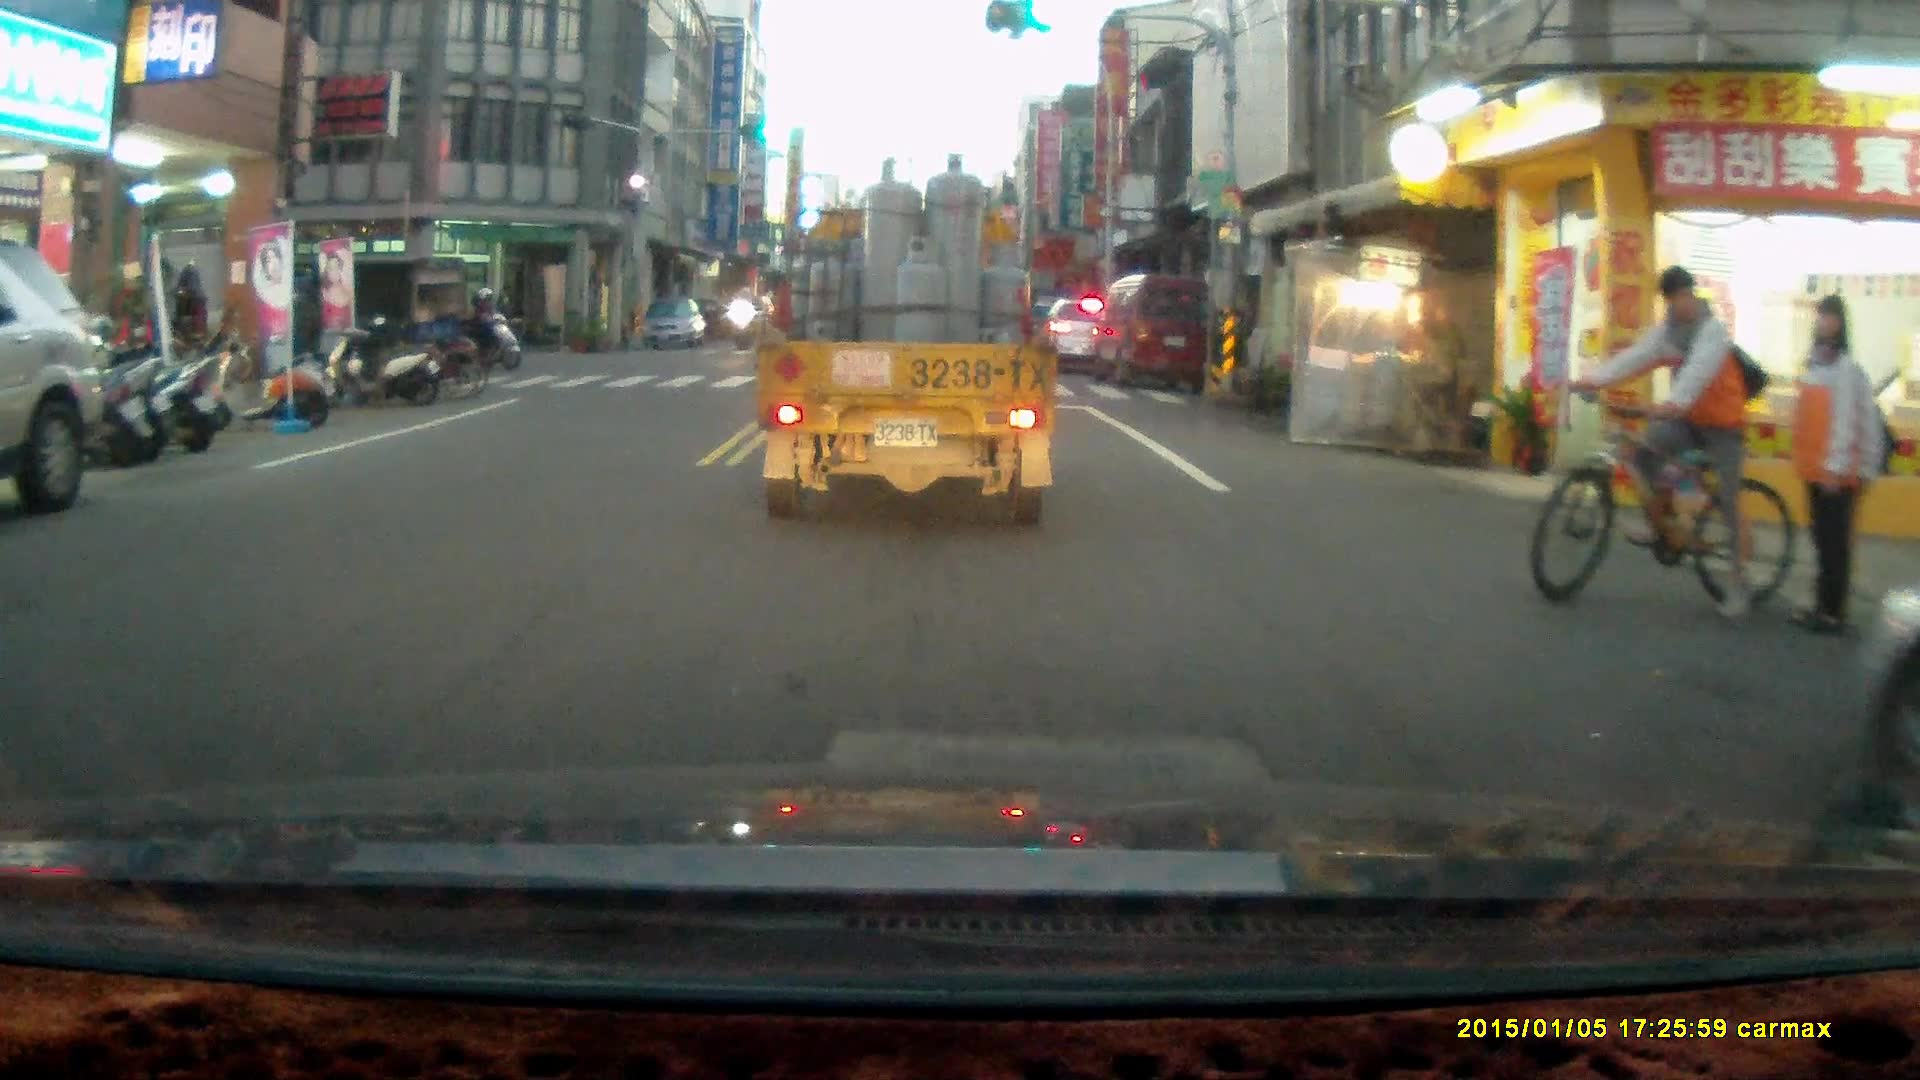pedestrian: (1782, 293, 1866, 639), (172, 264, 208, 375)
rider: (1533, 265, 1796, 625), (451, 283, 519, 372), (731, 283, 768, 350)
vehicle: (753, 161, 1045, 522), (1, 246, 109, 515), (270, 247, 475, 373), (1092, 273, 1217, 392), (1043, 295, 1116, 375), (640, 298, 709, 351)
